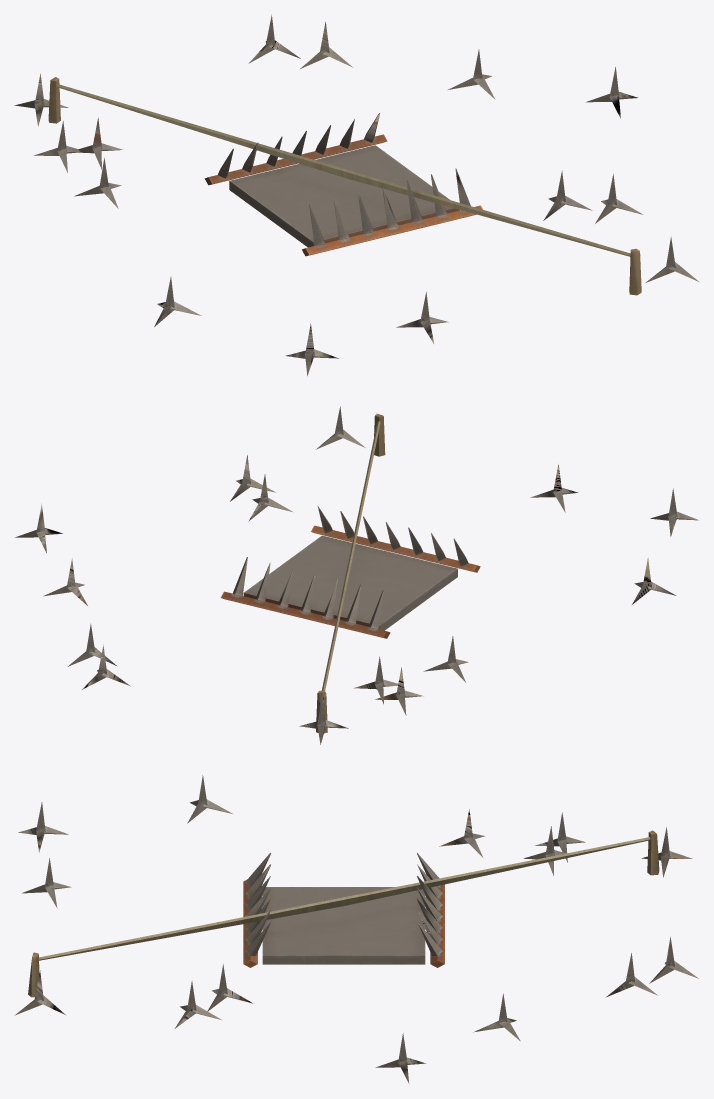
File: trap-town.low.glb
3 renders of one model, top to bottom at view 1: azimuth 30°, elevation 25°; view 2: azimuth 150°, elevation 25°; view 3: azimuth 270°, elevation 25°, orthographic. The views are drawn at different scales.
Visible parts, largest first — view 1: trap-town; view 2: trap-town; view 3: trap-town.
Boxes of the visible parts, x1,y1,x2,y2 form: trap-town: (14, 14, 698, 376); trap-town: (15, 406, 698, 744); trap-town: (14, 775, 698, 1083).
Size of the model in its own units: 1.64 by 0.1273 by 1.69.
1 material, 1 textured.
